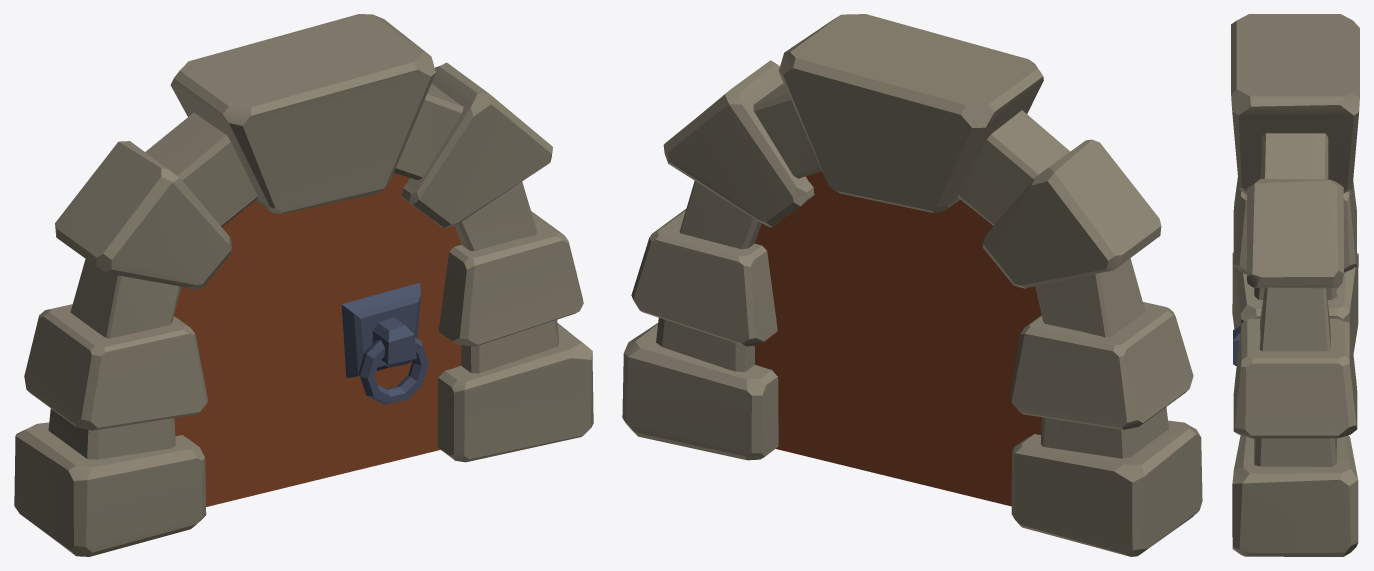
Rendered from Porte.fbx.
3 renders of one model, left to right at view 1: azimuth 30°, elevation 25°; view 2: azimuth 150°, elevation 25°; view 3: azimuth 270°, elevation 25°, orthographic. The views are drawn at different scales.
Visible parts, largest first — view 1: Stone_LP4.033; view 2: Stone_LP4.033; view 3: Stone_LP4.033.
Part boxes in pixels (left/top/right/bottom): Stone_LP4.033: left=14, top=14, right=593, bottom=556; Stone_LP4.033: left=622, top=14, right=1202, bottom=556; Stone_LP4.033: left=1231, top=14, right=1359, bottom=556.
Size of the model in its own units: 291 by 225 by 67.28.
